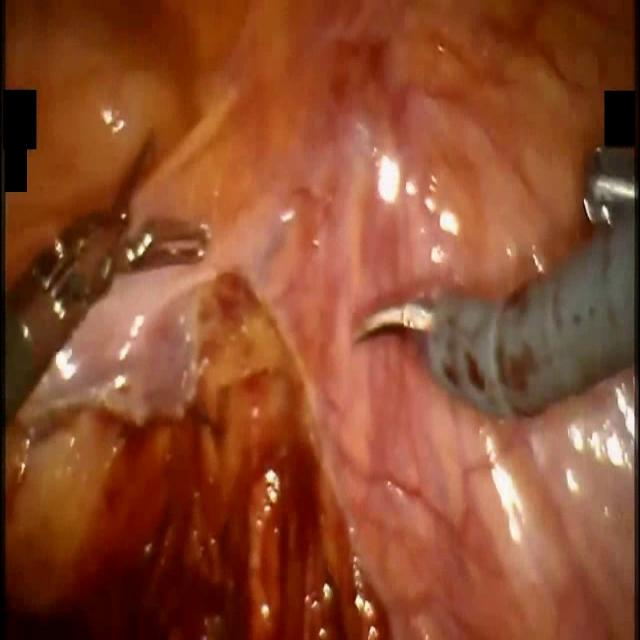surgical-area: (0, 0, 640, 639)
surgical-tool: (350, 154, 634, 415), (7, 204, 200, 433)
